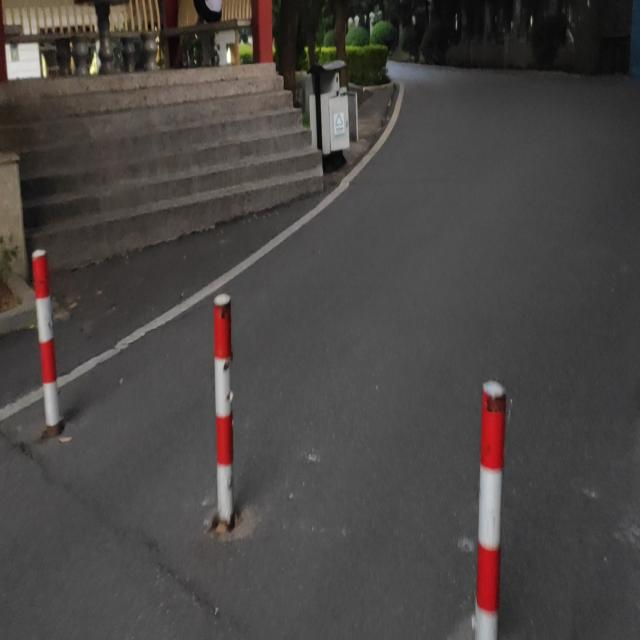ash bin: (309, 60, 358, 168)
warning_column: (474, 382, 511, 631), (210, 288, 238, 521), (30, 247, 62, 429)
